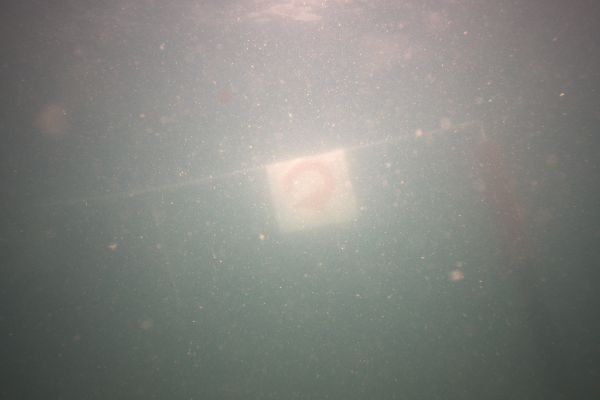gate: (0, 122, 570, 365)
gate_rouge: (265, 152, 359, 232)
